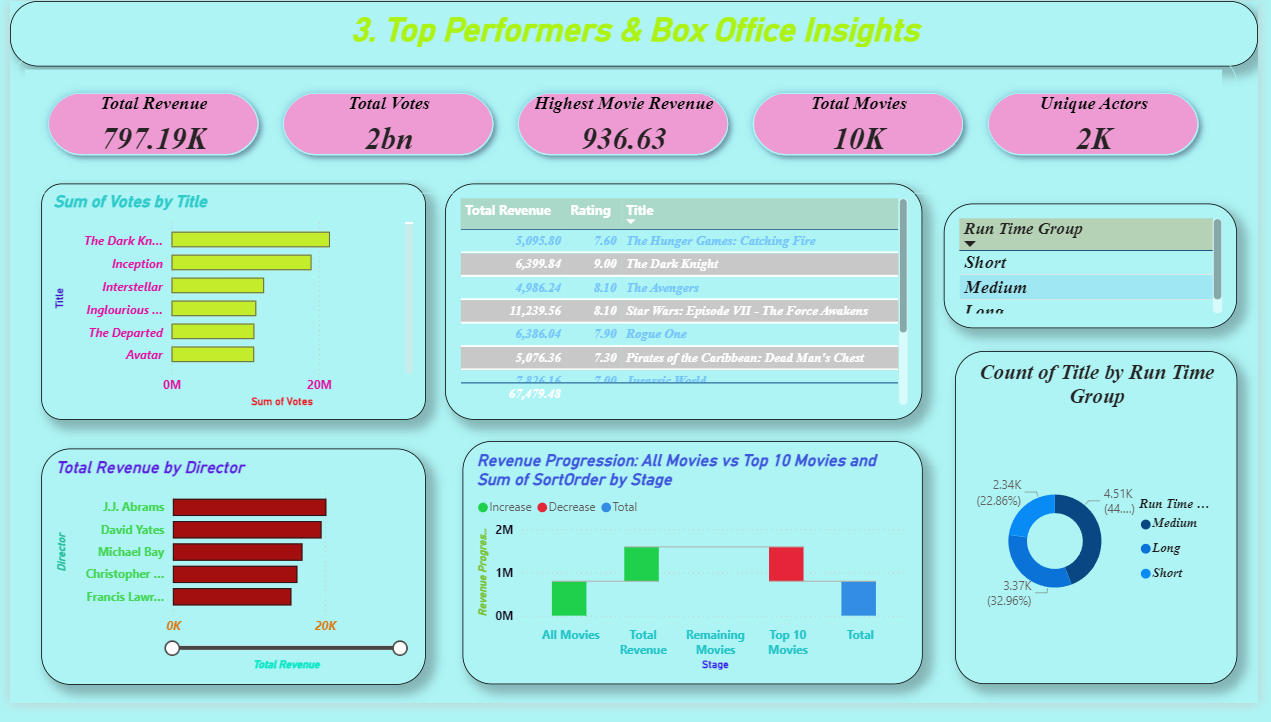

What the dashboard file says about the page in this screenshot:
{"tool":"powerbi","page":{"name":"Page 3","canvas":[1280,720],"ordinal":2},"visuals":[{"type":"textbox","title":"3. Top Performers & Box Office Insights","box":[0,0,1280,67.6],"z":0},{"type":"clusteredBarChart","fields":{"Category":["IMDB-Movie-Data.Director"],"Y":["IMDB-Movie-Data.Total Revenue"]},"box":[32.6,458.4,394.5,242.5],"z":1000},{"type":"clusteredBarChart","fields":{"Y":["Sum(IMDB-Movie-Data.Votes)"],"Category":["IMDB-Movie-Data.Title"]},"box":[32.6,187,394.5,242.5],"z":2000},{"type":"waterfallChart","fields":{"Y":["IMDB-Movie-Data.Revenue Waterfall Value"],"Category":["Revenue Flow.Stage"]},"box":[464.5,451.2,471.7,249.7],"z":3000},{"type":"tableEx","fields":{"Values":["IMDB-Movie-Data.Total Revenue","IMDB-Movie-Data.Rating","IMDB-Movie-Data.Title"]},"box":[446.4,187,489.8,242.5],"z":4000},{"type":"cardVisual","fields":{"Data":["IMDB-Movie-Data.Total Revenue","IMDB-Movie-Data.Total Votes","IMDB-Movie-Data.Highest Movie Revenue","IMDB-Movie-Data.Total Movies","IMDB-Movie-Data.Unique Actors"]},"box":[0,55.5,1258.3,142.4],"z":5000},{"type":"tableEx","fields":{"Values":["IMDB-Movie-Data.Run Time Group"]},"box":[957.9,207.5,300.4,127.9],"z":6000},{"type":"donutChart","fields":{"Category":["IMDB-Movie-Data.Run Time Group"],"Y":["CountNonNull(IMDB-Movie-Data.Title)"]},"box":[968.8,359.5,289.5,341.4],"z":7000}]}

Visuals, with their boxes in screenshot pixels (x1, y1, x2, y2), scaled from the page's 1280x720 canvas onto the 1271x722 screenshot:
"3. Top Performers & Box Office Insights" textbox: <box>0,0,1270,68</box>
clusteredBarChart - IMDB-Movie-Data.Director x IMDB-Movie-Data.Total Revenue: <box>32,460,424,703</box>
clusteredBarChart - Sum(IMDB-Movie-Data.Votes) x IMDB-Movie-Data.Title: <box>32,188,424,431</box>
waterfallChart - IMDB-Movie-Data.Revenue Waterfall Value x Revenue Flow.Stage: <box>461,452,930,703</box>
tableEx - IMDB-Movie-Data.Total Revenue x IMDB-Movie-Data.Rating: <box>443,188,930,431</box>
cardVisual - IMDB-Movie-Data.Total Revenue x IMDB-Movie-Data.Total Votes: <box>0,56,1249,198</box>
tableEx - IMDB-Movie-Data.Run Time Group: <box>951,208,1249,336</box>
donutChart - IMDB-Movie-Data.Run Time Group x CountNonNull(IMDB-Movie-Data.Title): <box>962,360,1249,703</box>
